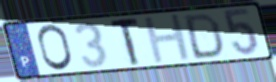3: (73, 20, 112, 70)
5: (220, 6, 261, 59)
D: (183, 12, 225, 61)
H: (141, 12, 194, 66)
O: (36, 23, 75, 73)
T: (109, 16, 142, 68)
